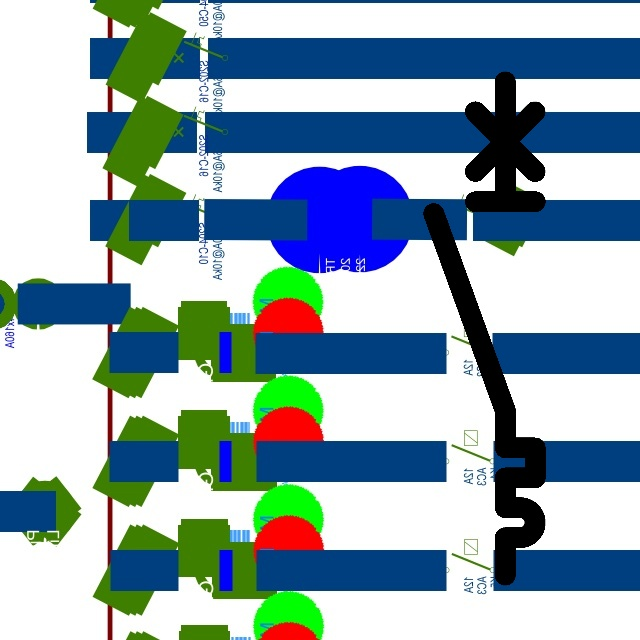interruptor_termomagnetico: (421, 69, 548, 588)
